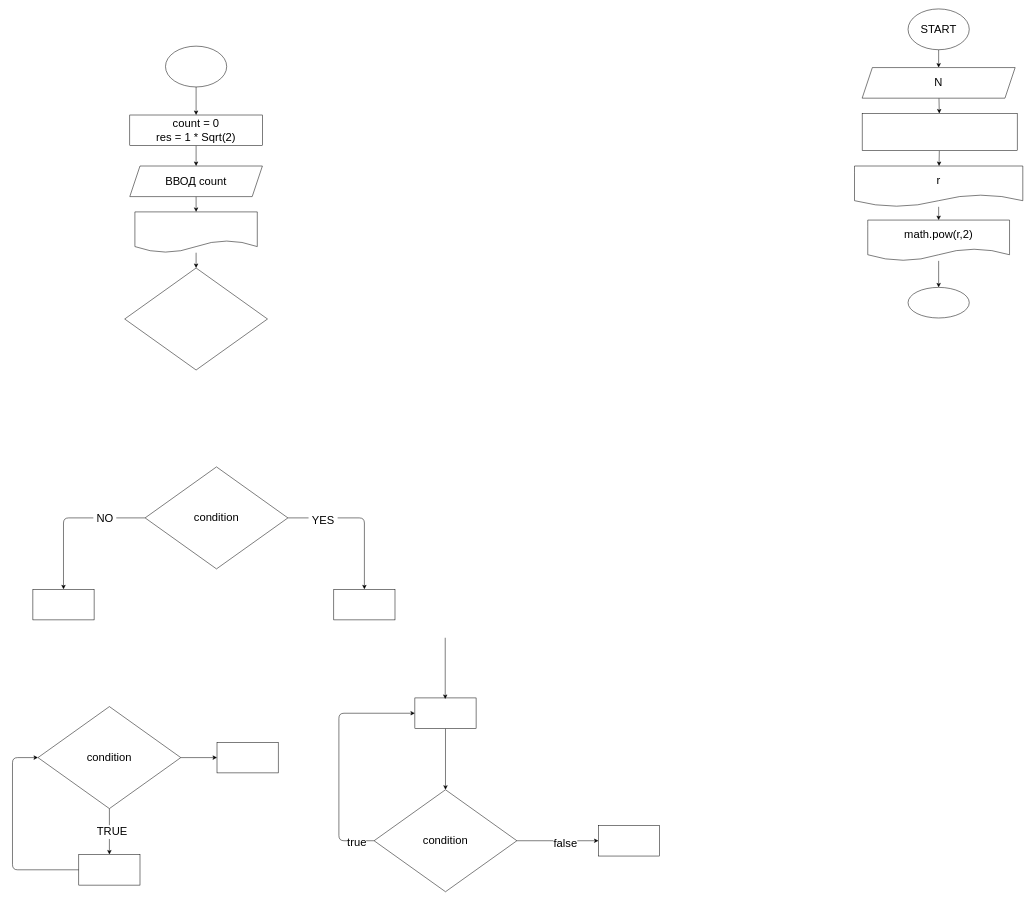
Some shapes in this 1032 by 901 pixel diagram are drawn without their labels. Here are the shapes that lost their labels. From the top down, the centre of each, then its label:
the point at 196,66: START END
the point at 939,132: r r = random(1,N)
the point at 195,232: ВЫВОД res
the point at 938,302: END
